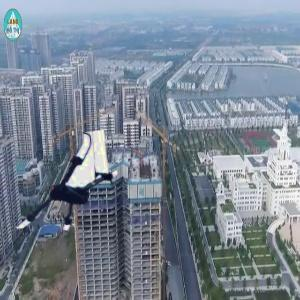drone: (8, 136, 122, 250)
